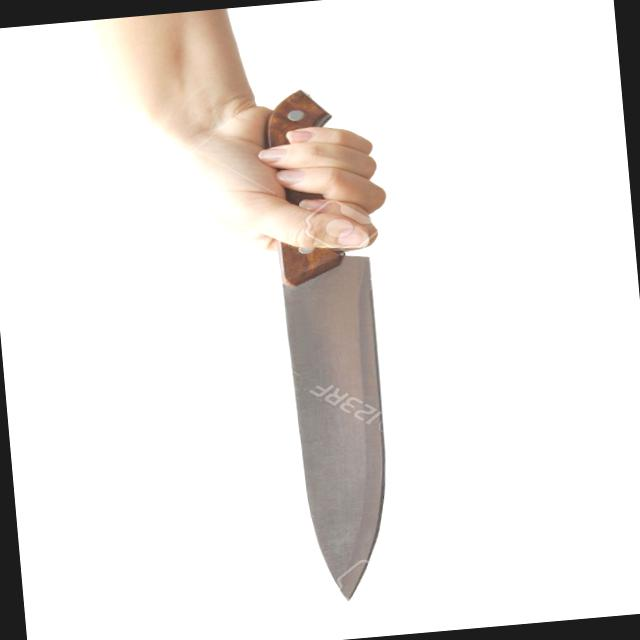knife: (196, 120, 434, 617)
